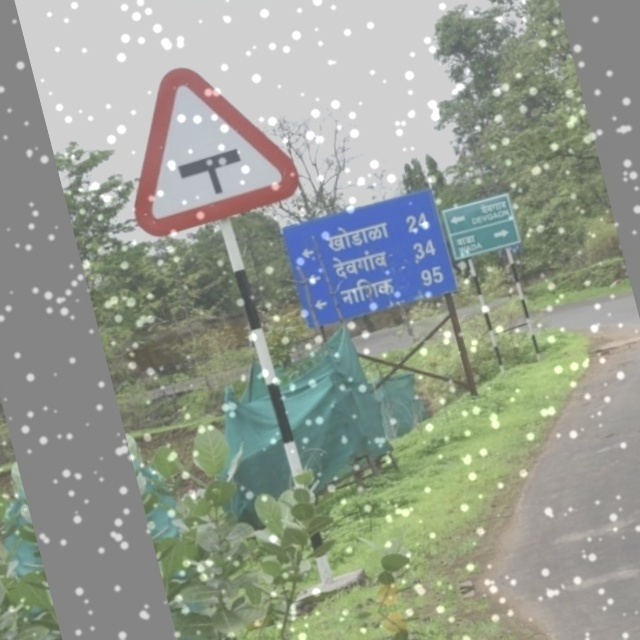T_Intersection: (103, 49, 308, 237)
